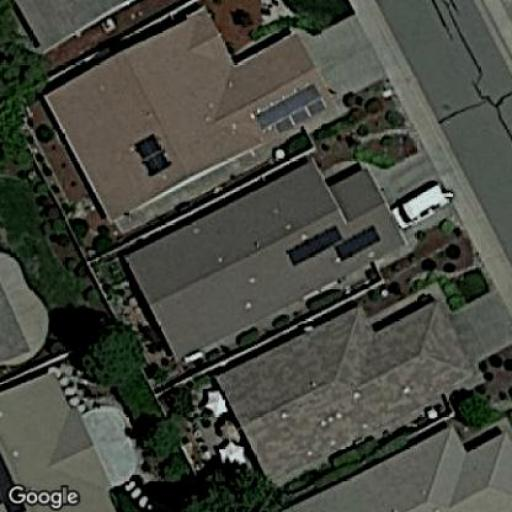solar-panel: (248, 82, 332, 136), (285, 223, 385, 267), (133, 132, 175, 177), (0, 453, 23, 512)
